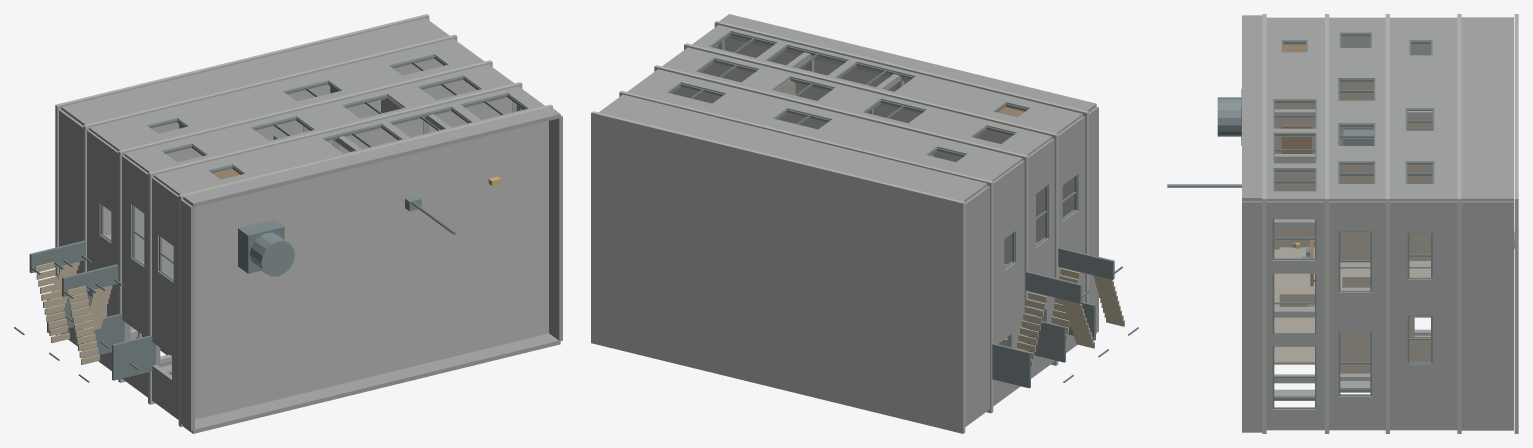
The model's file is e07_station.glb.
3 renders of one model, left to right at view 1: azimuth 30°, elevation 25°; view 2: azimuth 150°, elevation 25°; view 3: azimuth 270°, elevation 25°, orthographic.
Visible parts, largest first — view 1: STR_ROOF_SLAB, EXT_B1_NORTH_01, ROOF_PARAPET_NORTH, ROOF_PARAPET_SOUTH, EXT_B1_WEST_01, STR_F3_SLAB_8, ROOF_PARAPET_NS_-12.12, ROOF_PARAPET_NS_12.12, STR_F2_SLAB_8, STR_B1_FOUNDATION, STR_F1_SLAB_8, FIREESC_F2_F3_TOP_LANDING (+37 smaller); view 2: STR_B1_FOUNDATION, EXT_B1_NORTH_01, EXT_B1_WEST_01, STR_ROOF_SLAB, ROOF_PARAPET_NORTH, STR_F3_SLAB_8, STR_F2_SLAB_8, ROOF_PARAPET_NS_-12.12, FIREESC_F1_F2_DOOR_LANDING, EXT_F1_NORTH_12, EXT_F3_NORTH_12, STR_F1_SLAB_8 (+28 smaller); view 3: EXT_B1_EAST_01, EXT_B1_NORTH_01, ROOF_PARAPET_NS_12.12, ROOF_PARAPET_NORTH, STR_B1_FOUNDATION, STR_ROOF_SLAB, INT_F3_CORE_SEPARATION_04, EXT_F1_EAST_02, EXT_F1_EAST_01, INT_F2_EAST_DIV_04, STR_F1_SLAB_8, STR_F2_SLAB_8 (+79 smaller).
Boxes of the visible parts, x1,y1,x2,y2 form: STR_ROOF_SLAB: [178, 104, 552, 426]; EXT_B1_NORTH_01: [61, 18, 449, 125]; ROOF_PARAPET_NORTH: [183, 106, 560, 207]; ROOF_PARAPET_SOUTH: [183, 333, 560, 433]; EXT_B1_WEST_01: [59, 109, 83, 346]; STR_F3_SLAB_8: [223, 82, 522, 170]; ROOF_PARAPET_NS_-12.12: [181, 199, 194, 431]; ROOF_PARAPET_NS_12.12: [549, 115, 562, 341]; STR_F2_SLAB_8: [194, 60, 492, 157]; STR_B1_FOUNDATION: [55, 14, 429, 335]; STR_F1_SLAB_8: [159, 34, 457, 132]; FIREESC_F2_F3_TOP_LANDING: [112, 336, 155, 380]; STR_B1_FOUNDATION: [591, 111, 965, 433]; EXT_B1_NORTH_01: [599, 94, 987, 201]; EXT_B1_WEST_01: [965, 186, 989, 426]; STR_ROOF_SLAB: [714, 21, 1088, 320]; ROOF_PARAPET_NORTH: [719, 14, 1096, 111]; STR_F3_SLAB_8: [684, 43, 982, 138]; STR_F2_SLAB_8: [654, 65, 952, 160]; ROOF_PARAPET_NS_-12.12: [1089, 107, 1098, 333]; FIREESC_F1_F2_DOOR_LANDING: [992, 343, 1030, 388]; EXT_F1_NORTH_12: [820, 120, 937, 155]; EXT_F3_NORTH_12: [899, 79, 1005, 112]; STR_F1_SLAB_8: [619, 90, 917, 165]; EXT_B1_EAST_01: [1461, 201, 1513, 429]; EXT_B1_NORTH_01: [1461, 17, 1513, 201]; ROOF_PARAPET_NS_12.12: [1242, 201, 1262, 430]; ROOF_PARAPET_NORTH: [1242, 15, 1262, 201]; STR_B1_FOUNDATION: [1514, 14, 1518, 433]; STR_ROOF_SLAB: [1262, 14, 1266, 433]; INT_F3_CORE_SEPARATION_04: [1279, 103, 1315, 247]; EXT_F1_EAST_02: [1407, 363, 1432, 428]; EXT_F1_EAST_01: [1432, 364, 1457, 428]; INT_F2_EAST_DIV_04: [1343, 165, 1373, 287]; STR_F1_SLAB_8: [1457, 51, 1461, 329]; STR_F2_SLAB_8: [1385, 51, 1389, 329].
Size of the model in its own units: 29.2 by 14.5 by 19.67.
